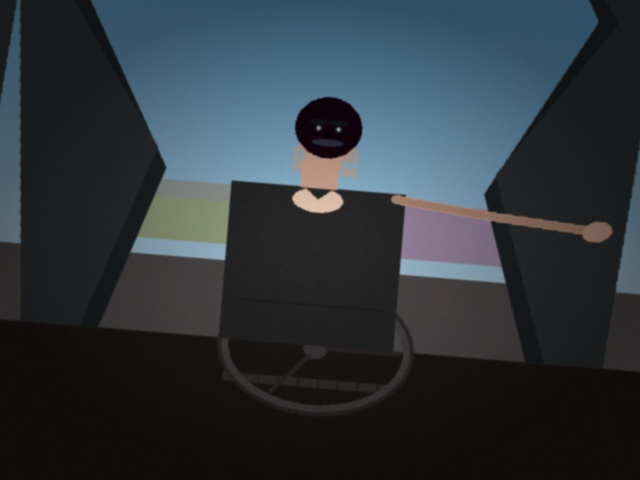hands_off_wheel: (574, 191, 616, 227)
